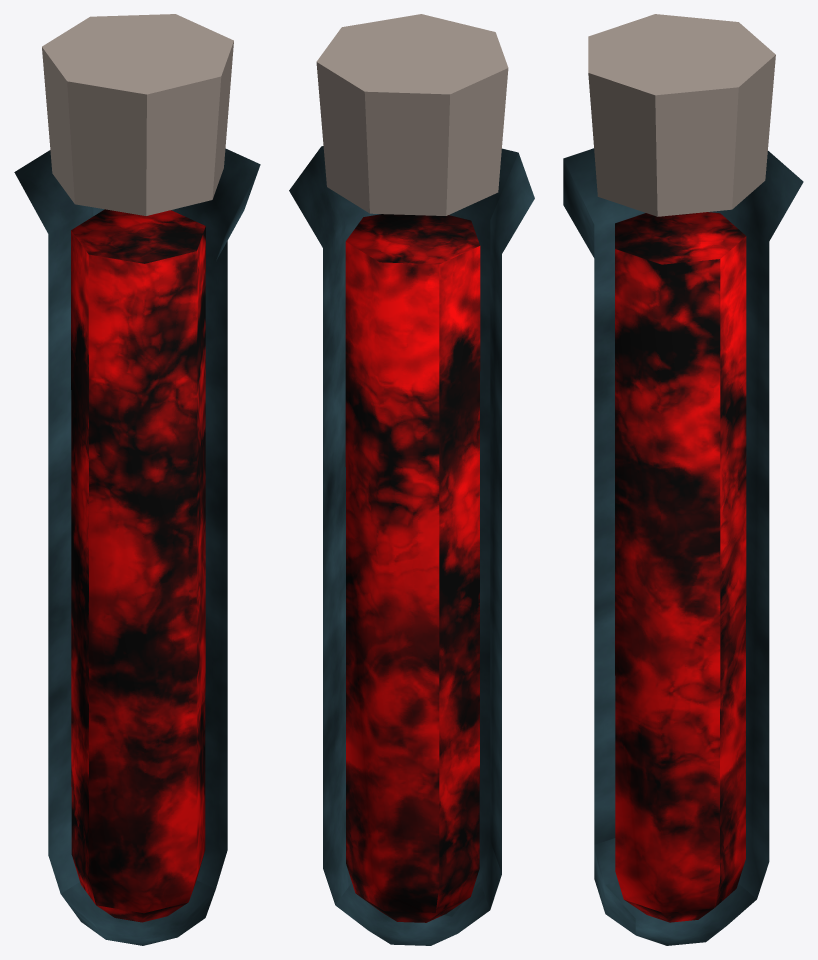
File: item_dna_vial.glb
3 views of the same model, side by side, from view 1: azimuth 30°, elevation 25°; view 2: azimuth 150°, elevation 25°; view 3: azimuth 270°, elevation 25° (orthographic).
Visible parts, largest first — view 1: Cylinder.001, Cylinder_submesh_0, Cylinder_submesh_1; view 2: Cylinder.001, Cylinder_submesh_0, Cylinder_submesh_1; view 3: Cylinder.001, Cylinder_submesh_0, Cylinder_submesh_1.
Part boxes in pixels (<box>): Cylinder.001: <box>71,209,205,922</box>; Cylinder_submesh_0: <box>14,148,260,945</box>; Cylinder_submesh_1: <box>42,14,233,215</box>; Cylinder.001: <box>345,214,480,922</box>; Cylinder_submesh_0: <box>289,146,534,945</box>; Cylinder_submesh_1: <box>316,14,508,215</box>; Cylinder.001: <box>615,212,746,922</box>; Cylinder_submesh_0: <box>563,148,803,945</box>; Cylinder_submesh_1: <box>588,14,775,216</box>.
Bounding box in the file's own units: 0.1075 × 0.4244 × 0.1048.
3 materials, 2 textured.
